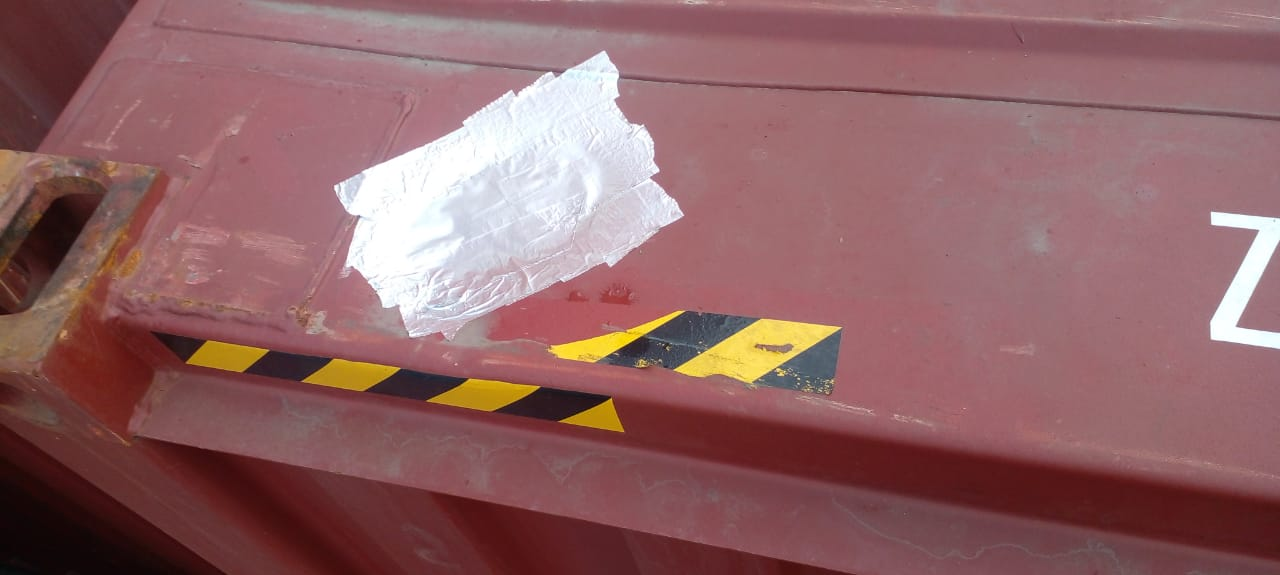top_side: (4, 12, 1280, 552)
